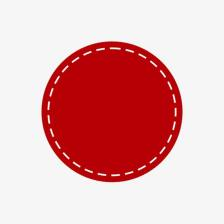red: (42, 42, 183, 182)
